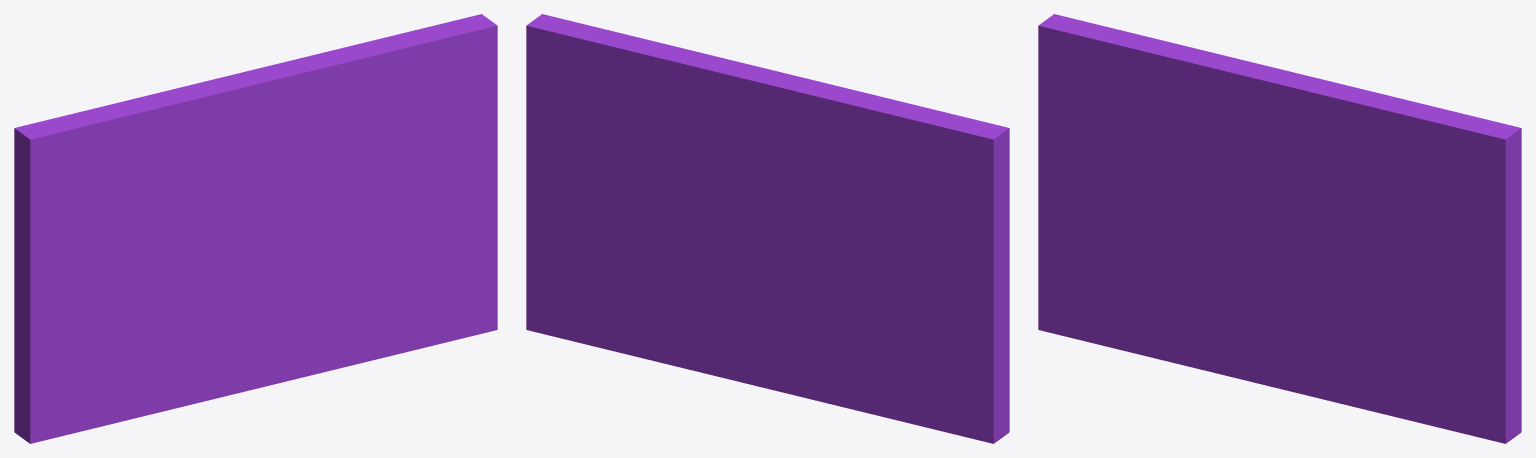
Rendered from Barrier_123_chunks.fbx.
The picture shows the model from 3 angles, left to right: view 1: azimuth 30°, elevation 25°; view 2: azimuth 150°, elevation 25°; view 3: azimuth 330°, elevation 25°; orthographic projection.
Parts seen in each view (by area): view 1: Barrier_123_1, Barrier_123_0, Barrier_123_4, Barrier_123_8, Barrier_123_9, Barrier_123_2, Barrier_123_5, Barrier_123_6, Barrier_123_7; view 2: Barrier_123_1, Barrier_123_0, Barrier_123_9, Barrier_123_4, Barrier_123_8, Barrier_123_3, Barrier_123_2, Barrier_123_6, Barrier_123_5; view 3: Barrier_123_1, Barrier_123_0, Barrier_123_4, Barrier_123_8, Barrier_123_9, Barrier_123_2, Barrier_123_5, Barrier_123_6, Barrier_123_7.
Part boxes in pixels (x1,y1,x2,y2): Barrier_123_1: [277, 14, 497, 354]; Barrier_123_0: [14, 111, 233, 443]; Barrier_123_4: [198, 242, 393, 400]; Barrier_123_8: [38, 81, 237, 222]; Barrier_123_9: [207, 45, 393, 167]; Barrier_123_2: [30, 332, 207, 443]; Barrier_123_5: [142, 232, 287, 341]; Barrier_123_6: [198, 166, 318, 241]; Barrier_123_7: [215, 142, 306, 200]; Barrier_123_1: [526, 14, 757, 361]; Barrier_123_0: [757, 123, 1009, 443]; Barrier_123_9: [645, 39, 815, 161]; Barrier_123_4: [656, 263, 799, 396]; Barrier_123_8: [783, 81, 1000, 187]; Barrier_123_3: [795, 314, 857, 405]; Barrier_123_2: [836, 354, 934, 429]; Barrier_123_6: [724, 158, 805, 212]; Barrier_123_5: [749, 254, 833, 329]; Barrier_123_1: [1285, 96, 1521, 443]; Barrier_123_0: [1038, 14, 1241, 328]; Barrier_123_4: [1206, 254, 1402, 418]; Barrier_123_8: [1047, 27, 1245, 190]; Barrier_123_9: [1232, 61, 1402, 193]; Barrier_123_2: [1038, 273, 1215, 372]; Barrier_123_5: [1150, 227, 1295, 309]; Barrier_123_6: [1206, 177, 1326, 238]; Barrier_123_7: [1223, 130, 1314, 187].
Bounding box in the file's own units: 462 × 288 × 27.2.
